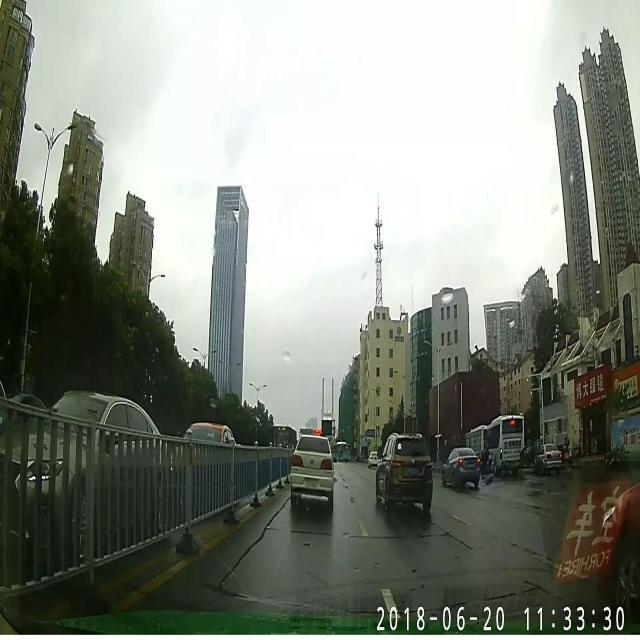car: (0, 390, 170, 560), (375, 431, 435, 514), (174, 423, 238, 488), (290, 426, 333, 504), (442, 446, 481, 488), (531, 443, 562, 471), (368, 450, 380, 468)
